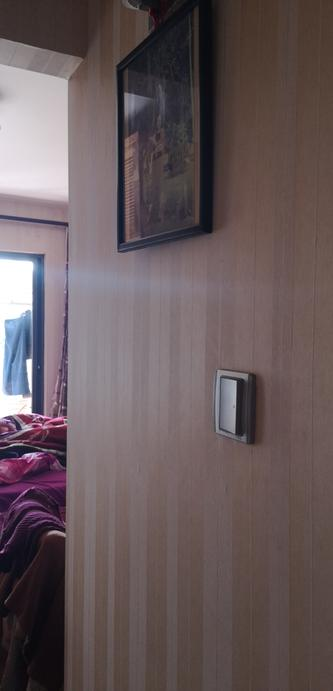switch: (218, 382, 260, 424)
